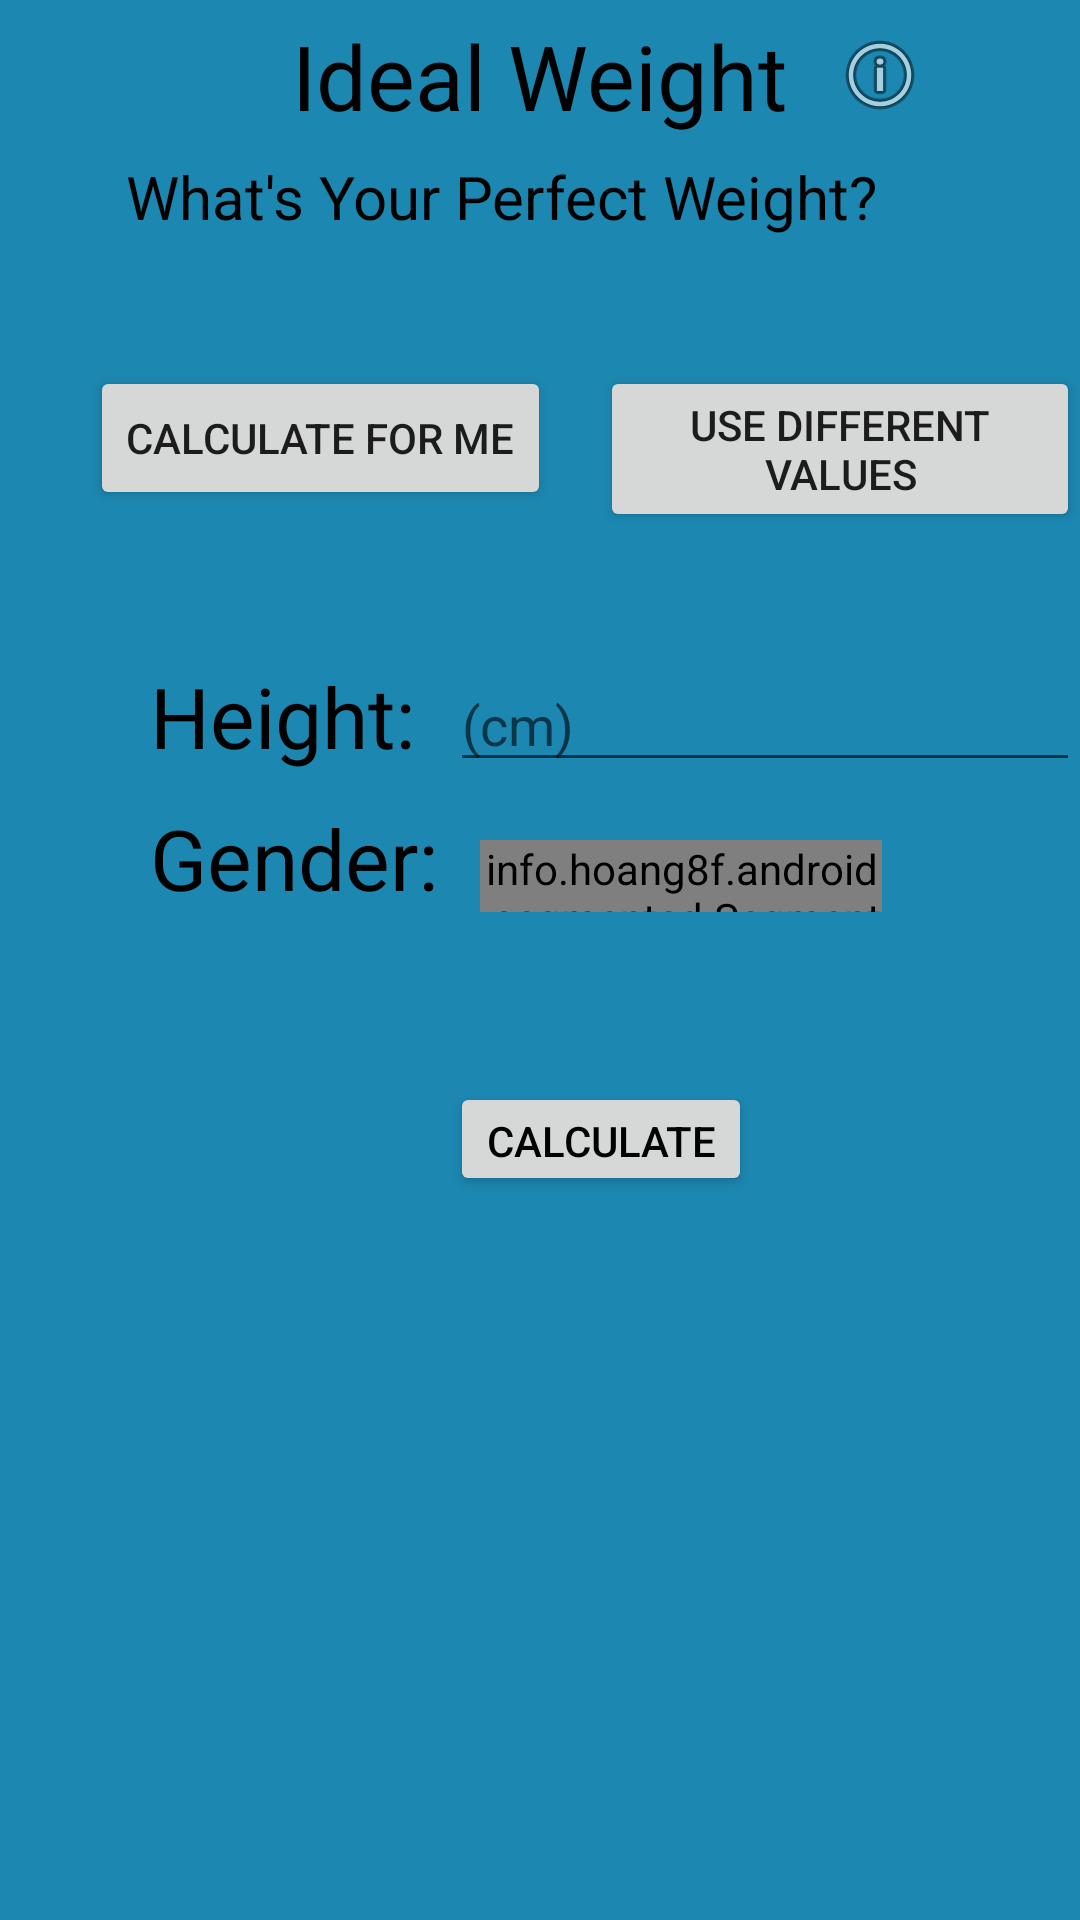

Locate icon controls on the screen. Image size 1080w x 1920h, boxes as (x1, y1, x2, y2).
info details: (846, 41, 914, 109)
